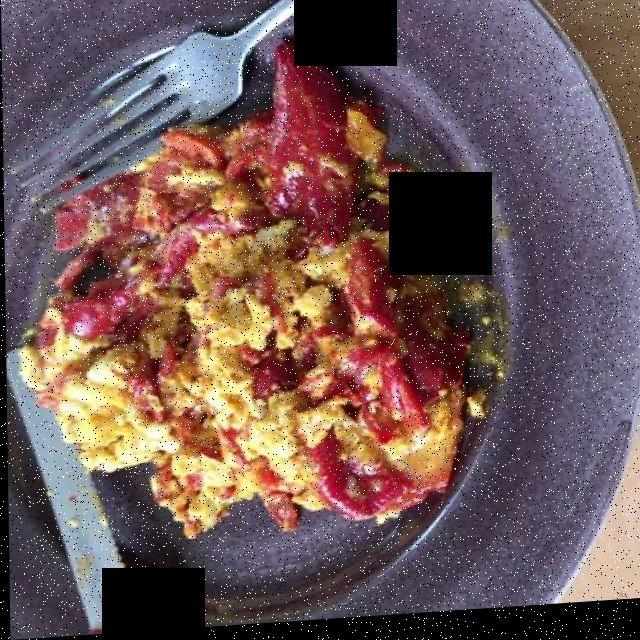bell-pepper: (39, 39, 464, 543)
eggs: (23, 62, 477, 525)
